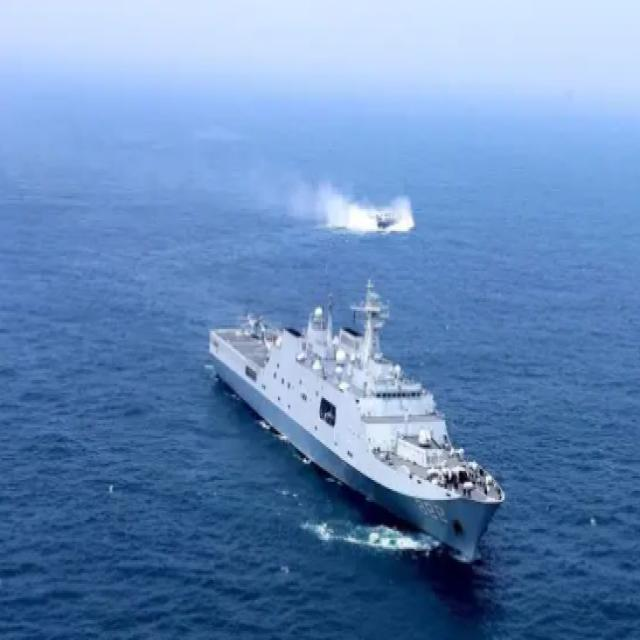navalvessels: (208, 243, 508, 568)
